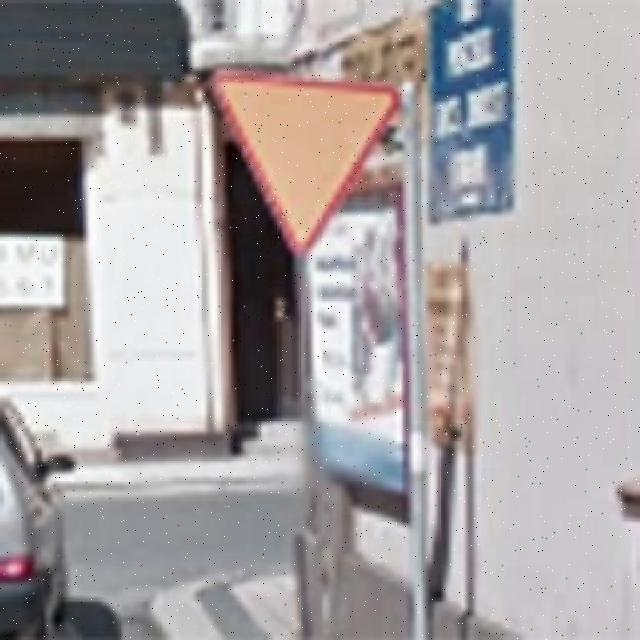Ustap pierwszenstwa: (206, 67, 402, 264)
